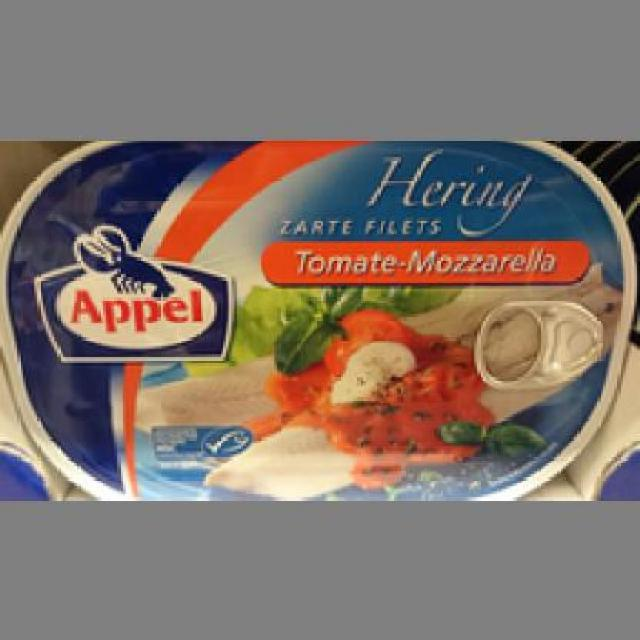Fish: (2, 140, 632, 494)
